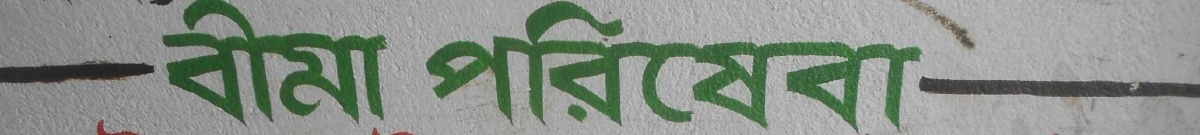text: (433, 2, 448, 133), (449, 2, 464, 133), (465, 2, 480, 133), (481, 2, 496, 133), (497, 2, 512, 133), (513, 2, 528, 133), (529, 2, 544, 133), (545, 2, 560, 133), (561, 2, 576, 133), (577, 2, 592, 133), (593, 2, 608, 133), (609, 2, 624, 133), (625, 2, 640, 133), (641, 2, 656, 133), (657, 2, 672, 133), (673, 2, 688, 133), (689, 2, 704, 133), (705, 2, 720, 133), (721, 2, 736, 133), (737, 2, 752, 133), (753, 2, 768, 133), (769, 2, 784, 133), (785, 2, 800, 133), (801, 2, 816, 133), (817, 2, 832, 133), (833, 2, 848, 133), (849, 2, 864, 133), (865, 2, 880, 133), (881, 2, 896, 133), (897, 2, 912, 133), (161, 1, 176, 129), (177, 1, 192, 129), (193, 1, 208, 129), (209, 1, 224, 129), (225, 1, 240, 129), (241, 1, 256, 129), (257, 1, 272, 129), (273, 1, 288, 129), (289, 1, 304, 129), (305, 1, 320, 129), (321, 1, 336, 129), (337, 1, 352, 129), (353, 1, 368, 129), (369, 1, 384, 129), (913, 2, 925, 133), (385, 1, 393, 129), (153, 1, 160, 129), (426, 2, 432, 133), (129, 118, 145, 135), (97, 118, 112, 135), (113, 118, 128, 135), (401, 127, 417, 134), (369, 127, 384, 134), (385, 127, 400, 134), (367, 127, 368, 134)
